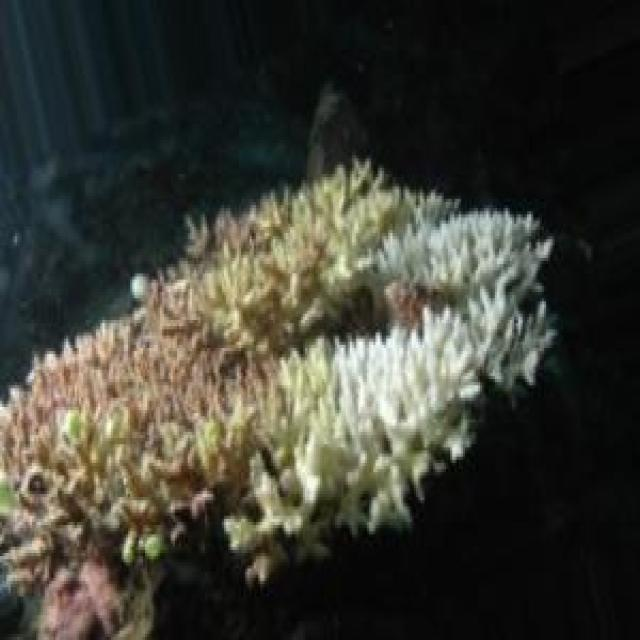bleached coral: (348, 345, 465, 441), (461, 267, 546, 395), (303, 444, 382, 550), (422, 230, 501, 289)
healthy coral: (243, 168, 403, 267), (173, 252, 320, 342), (0, 360, 105, 469), (9, 500, 96, 584), (126, 289, 196, 379), (198, 395, 262, 485), (98, 438, 156, 513)
